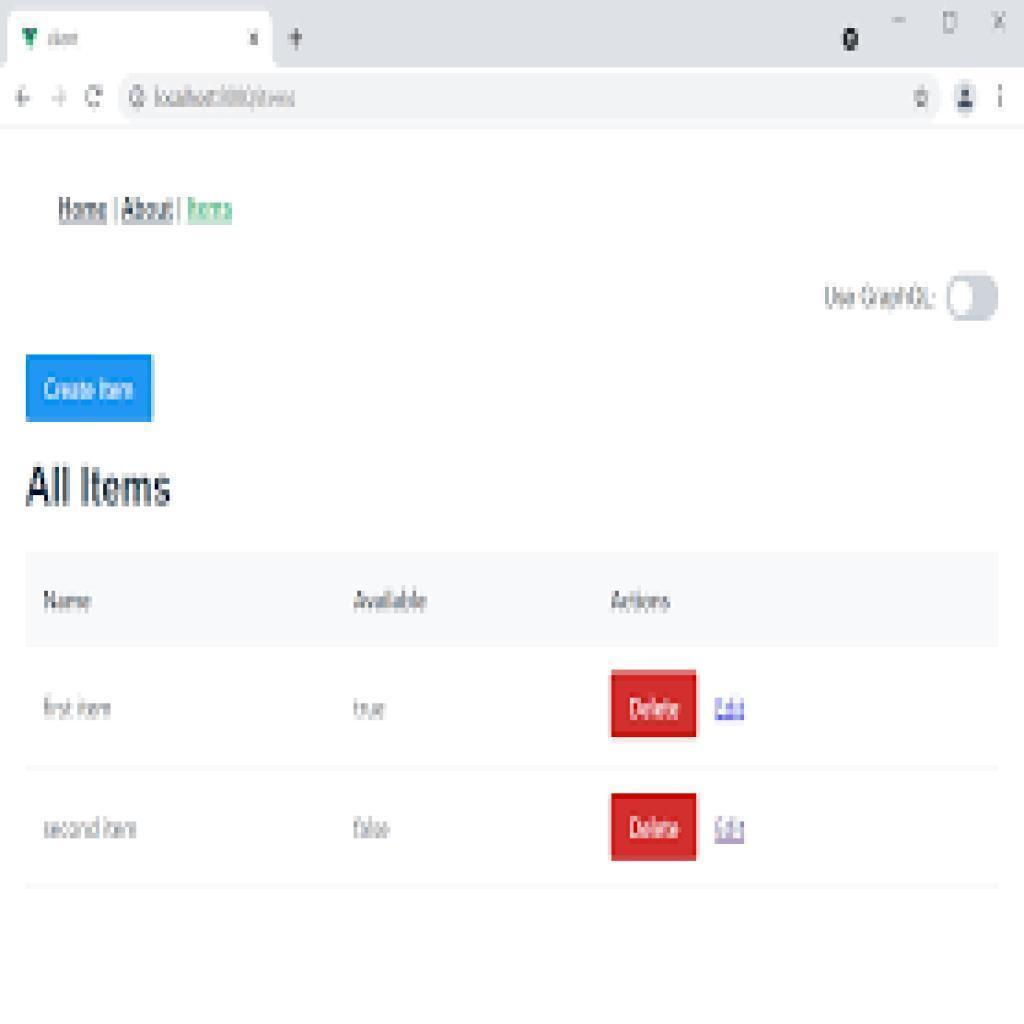button: (26, 354, 150, 419), (610, 791, 699, 862), (609, 669, 697, 737)
icon: (953, 80, 980, 115), (79, 81, 108, 110), (910, 84, 936, 114), (989, 9, 1014, 37), (837, 27, 862, 54), (13, 83, 36, 111), (286, 26, 310, 52), (941, 7, 963, 34), (990, 83, 1010, 112), (49, 84, 70, 111), (890, 7, 911, 32), (249, 29, 267, 51)
label: (21, 453, 177, 514), (817, 279, 938, 317)
switch: (947, 273, 1000, 322)
